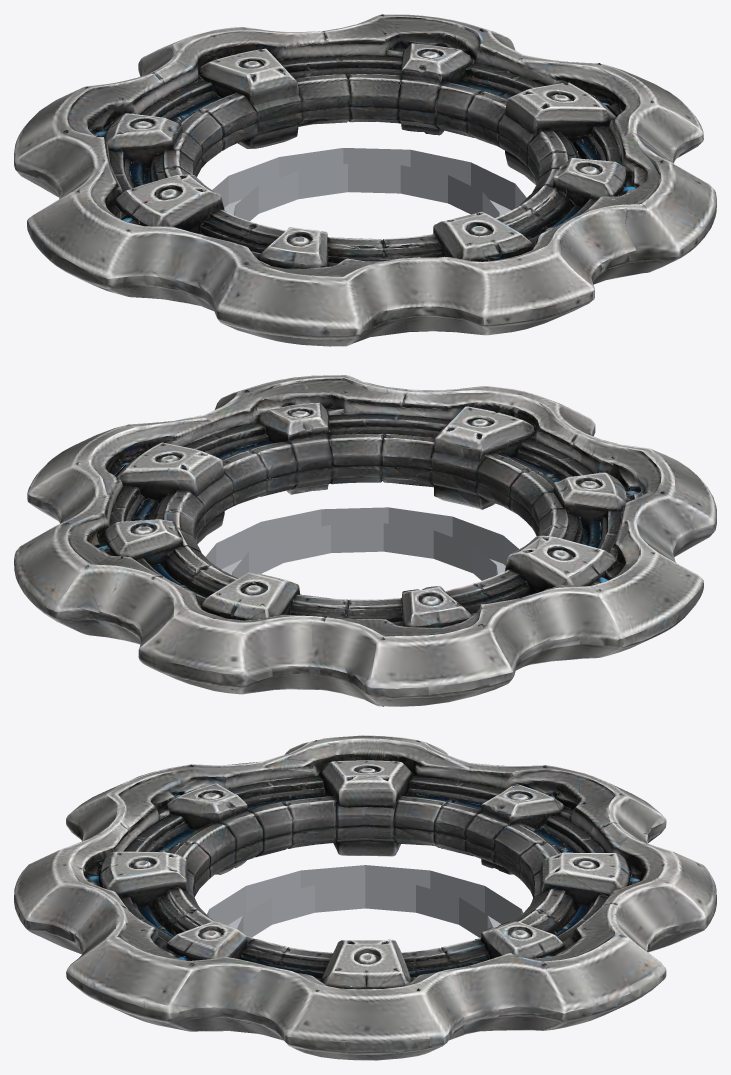
The model's file is hailstone.glb.
The picture shows the model from 3 angles, top to bottom: view 1: azimuth 30°, elevation 25°; view 2: azimuth 150°, elevation 25°; view 3: azimuth 270°, elevation 25°; orthographic projection. The views are drawn at different scales.
Parts seen in each view (by area): view 1: mesh_node; view 2: mesh_node; view 3: mesh_node.
Boxes of the visible parts, left/top/right/bottom form: mesh_node: left=14, top=14, right=716, bottom=346; mesh_node: left=14, top=375, right=716, bottom=706; mesh_node: left=14, top=735, right=716, bottom=1060.
Bounding box in the file's own units: 45.94 × 7.52 × 45.74.
Materials: 2 (1 with a texture image).
